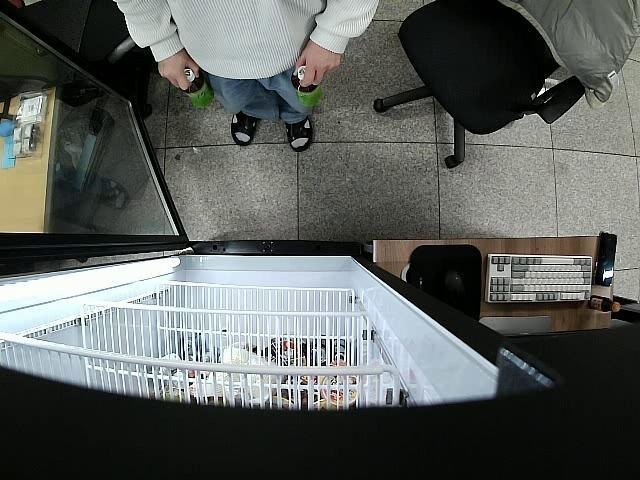19_17cha: (185, 68, 216, 112), (291, 66, 321, 110)
